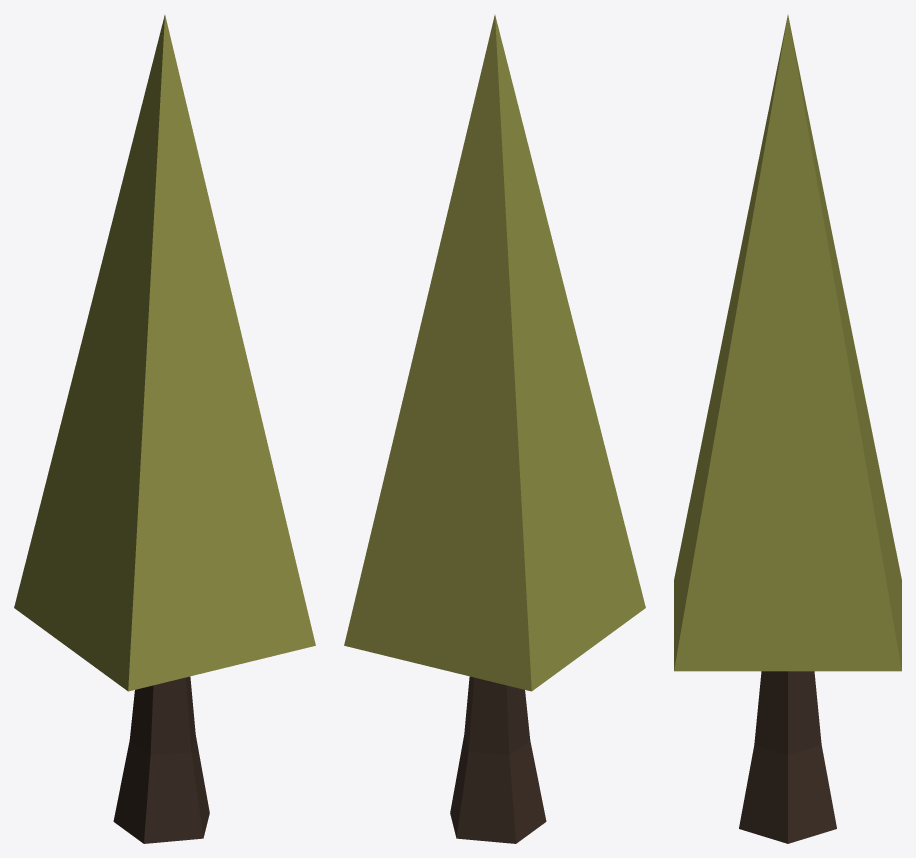
The model's file is Tree9_a_LP_LOD0.FBX.
The picture shows the model from 3 angles, left to right: view 1: azimuth 30°, elevation 25°; view 2: azimuth 150°, elevation 25°; view 3: azimuth 270°, elevation 25°; orthographic projection.
Parts seen in each view (by area): view 1: Tree9_a_LP_LOD0; view 2: Tree9_a_LP_LOD0; view 3: Tree9_a_LP_LOD0.
Boxes of the visible parts, x1=… form: Tree9_a_LP_LOD0: x1=14, y1=15, x2=315, y2=843; Tree9_a_LP_LOD0: x1=344, y1=15, x2=645, y2=843; Tree9_a_LP_LOD0: x1=674, y1=15, x2=901, y2=843.
Bounding box in the file's own units: 3.9 × 16.08 × 4.11.
